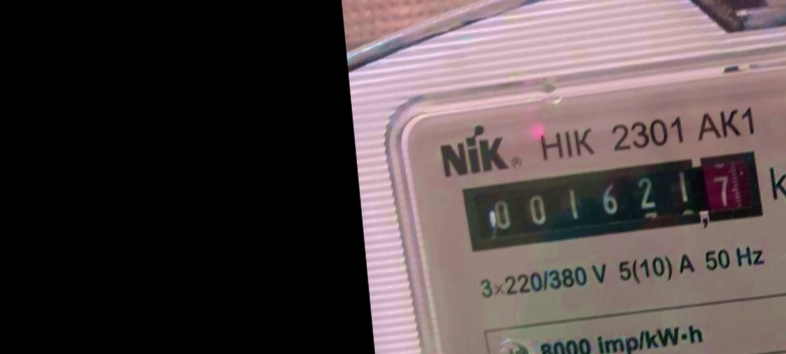0: (526, 191, 552, 230), (492, 196, 515, 232)
1: (676, 167, 693, 206), (566, 186, 583, 223)
2: (636, 174, 660, 212)
6: (600, 182, 622, 218)
7: (711, 172, 735, 210)
screen: (457, 148, 772, 258)
